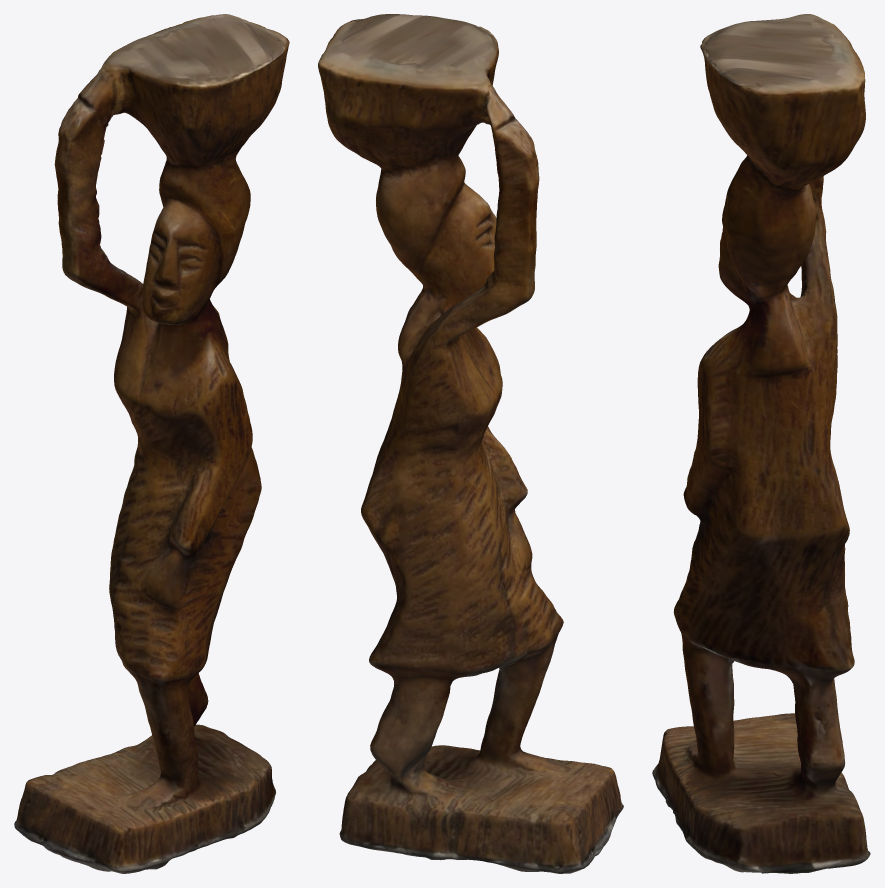
The model's file is 3DModel.obj.
3 views of the same model, side by side, from view 1: azimuth 30°, elevation 25°; view 2: azimuth 150°, elevation 25°; view 3: azimuth 270°, elevation 25° (orthographic). The views are drawn at different scales.
Parts seen in each view (by area): view 1: 3DModel_Custom; view 2: 3DModel_Custom; view 3: 3DModel_Custom.
Part boxes in pixels (box(x1,y1,x2,y2)): 3DModel_Custom: box(14, 14, 289, 873); 3DModel_Custom: box(318, 14, 623, 873); 3DModel_Custom: box(652, 14, 870, 873).
Size of the model in its own units: 0.2607 by 0.7544 by 0.1844.
Materials: 1 (1 with a texture image).
